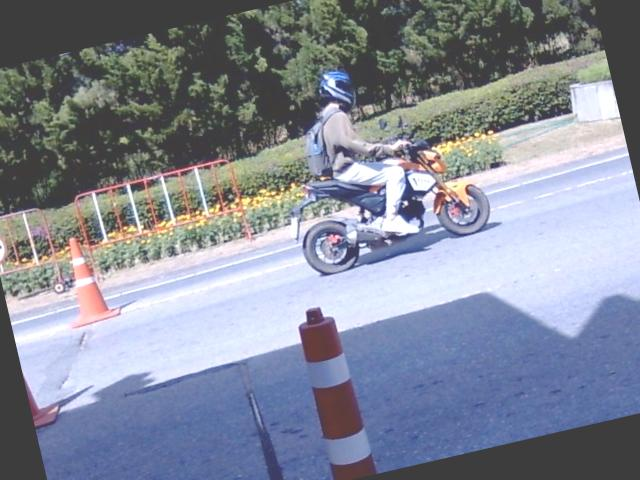helmet: (316, 67, 355, 108)
motor: (289, 178, 400, 273), (382, 138, 489, 235)
person: (318, 70, 417, 233)
